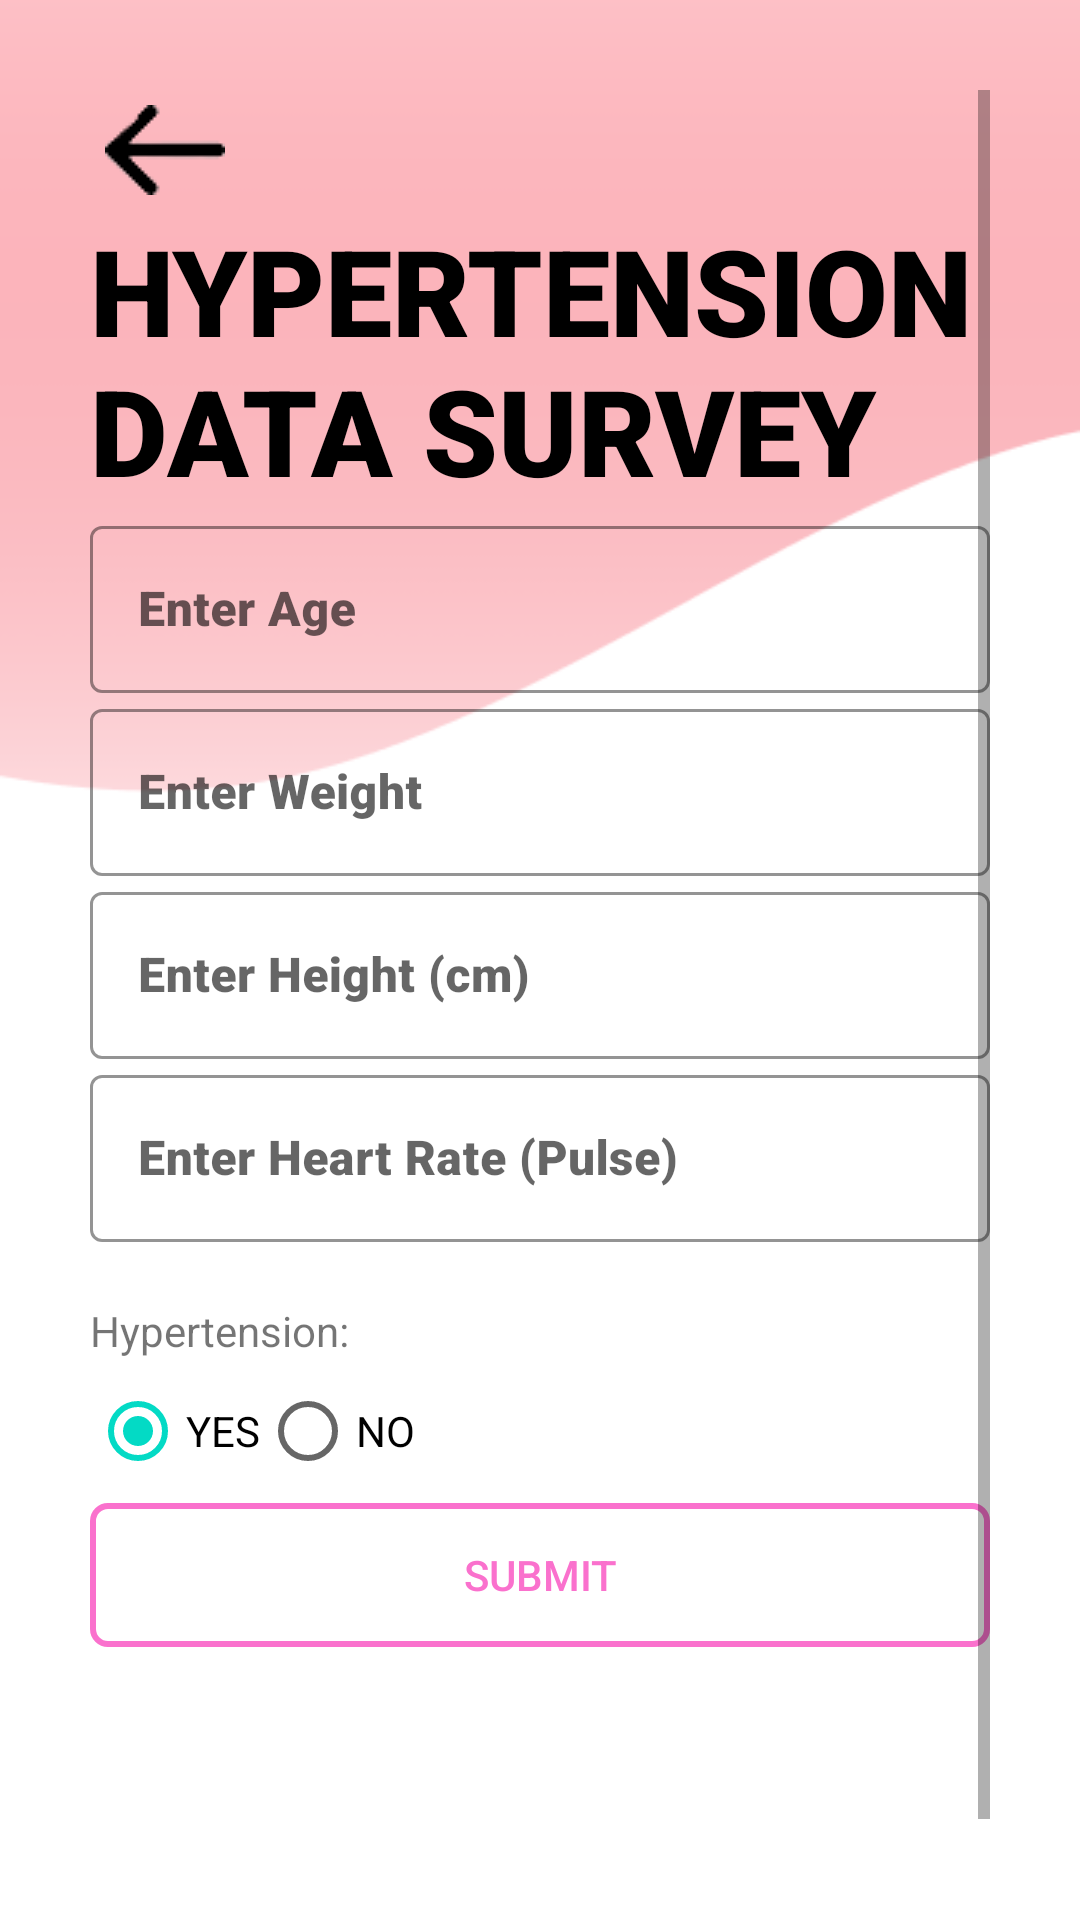

Icon click points for this 1080 x 1920 phone screenshot, format (x,y):
back: (165,150)
